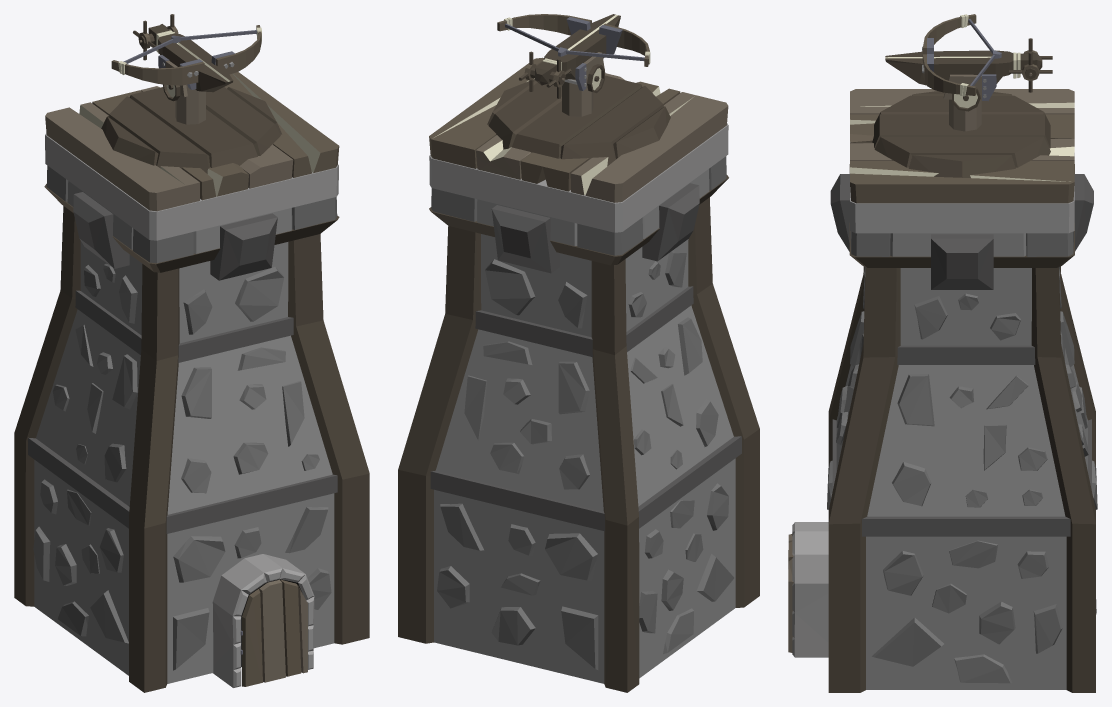
The model's file is _Ballista_tower_LVL_1.fbx.
3 renders of one model, left to right at view 1: azimuth 30°, elevation 25°; view 2: azimuth 150°, elevation 25°; view 3: azimuth 270°, elevation 25°, orthographic. The views are drawn at different scales.
Parts seen in each view (by area): view 1: Ballista_tower_LVL_1; view 2: Ballista_tower_LVL_1; view 3: Ballista_tower_LVL_1.
Part boxes in pixels (box(x1,y1,x2,y2)): Ballista_tower_LVL_1: box(14, 14, 369, 692); Ballista_tower_LVL_1: box(398, 14, 759, 692); Ballista_tower_LVL_1: box(788, 14, 1097, 692).
Bounding box in the file's own units: 509 × 1242 × 589.
